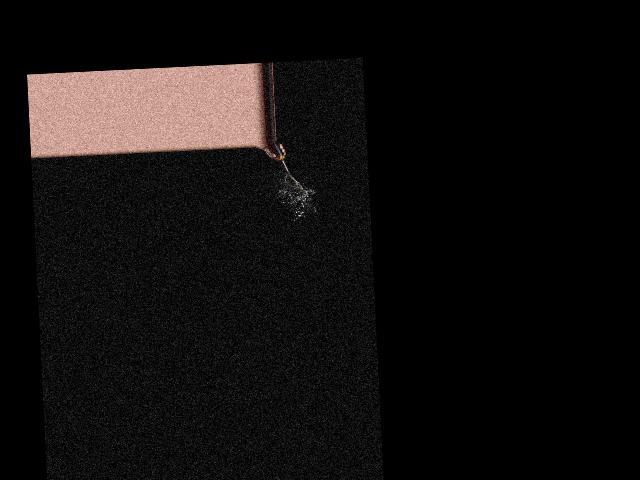beer: (264, 140, 290, 175)
